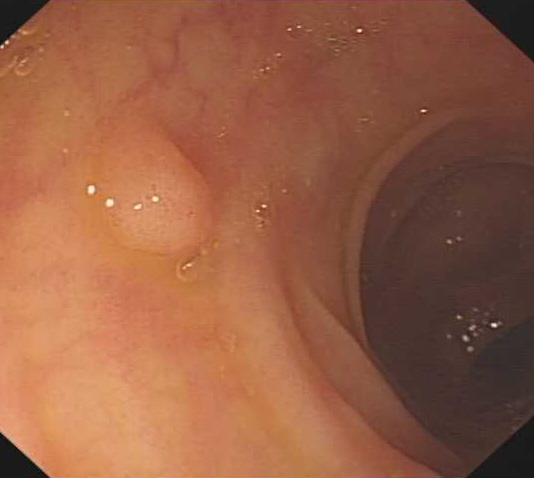adenoma: (95, 128, 217, 260)
